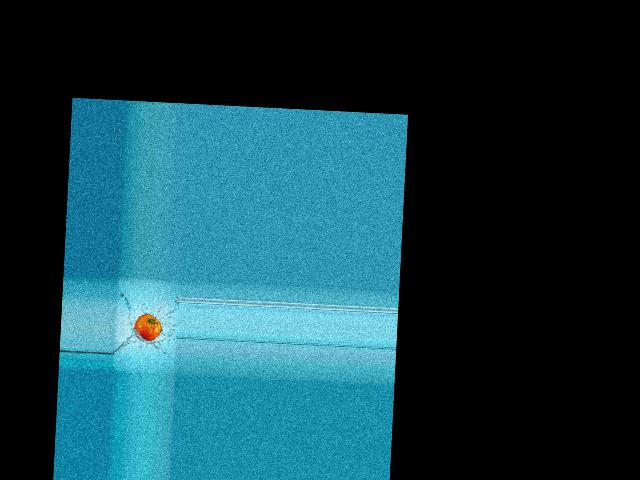tomato: (133, 313, 162, 341)
